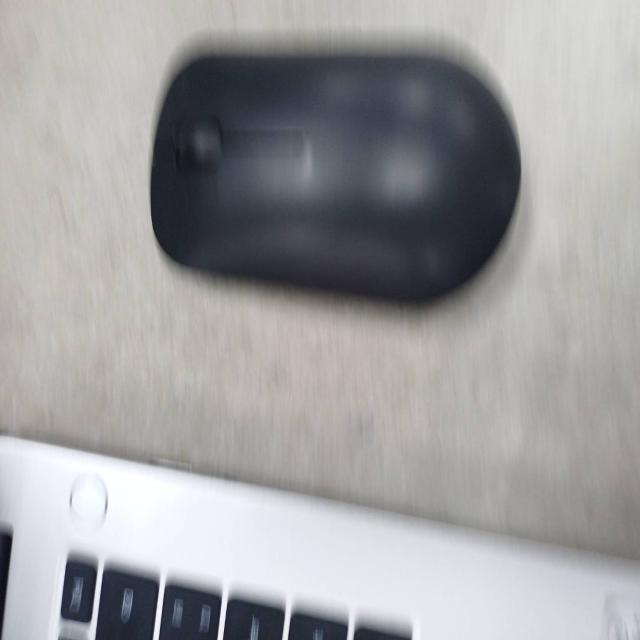mouse: (144, 35, 528, 319)
